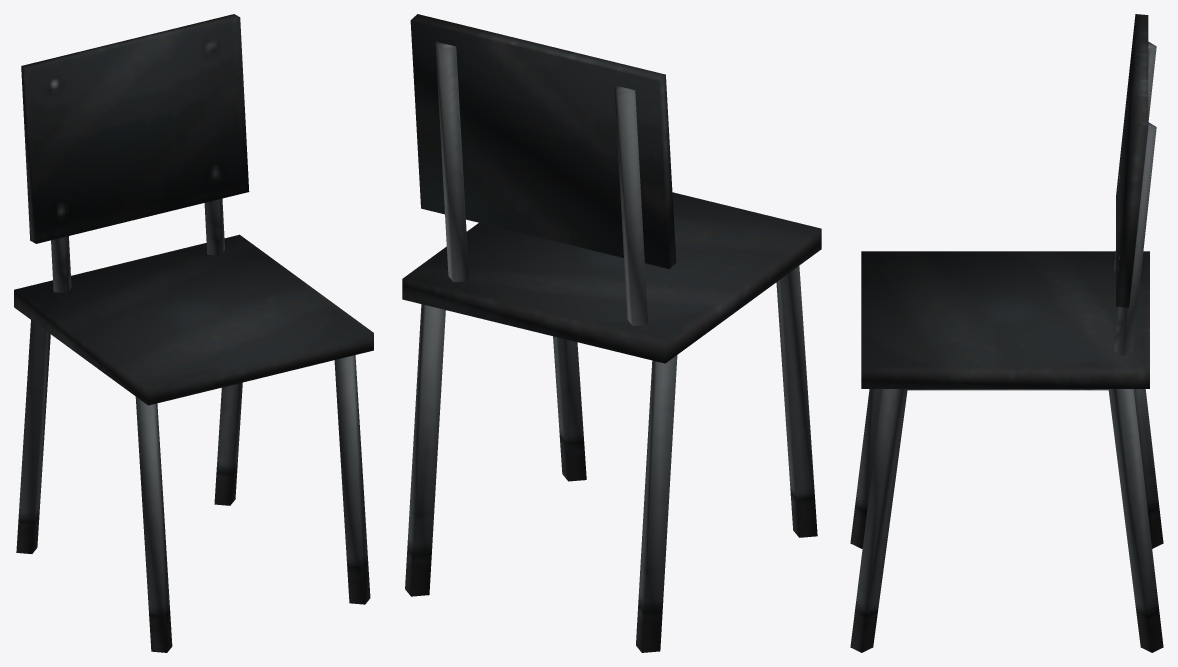
File: office-chair.glb
3 views of the same model, side by side, from view 1: azimuth 30°, elevation 25°; view 2: azimuth 150°, elevation 25°; view 3: azimuth 270°, elevation 25° (orthographic). The views are drawn at different scales.
Visible parts, largest first — view 1: Cube.010; view 2: Cube.010; view 3: Cube.010.
Part boxes in pixels (box(x1,y1,x2,y2)): Cube.010: box(14, 14, 373, 652); Cube.010: box(402, 14, 821, 652); Cube.010: box(850, 14, 1163, 652).
Bounding box in the file's own units: 0.5125 × 1.06 × 0.5726.
1 material, 1 textured.
